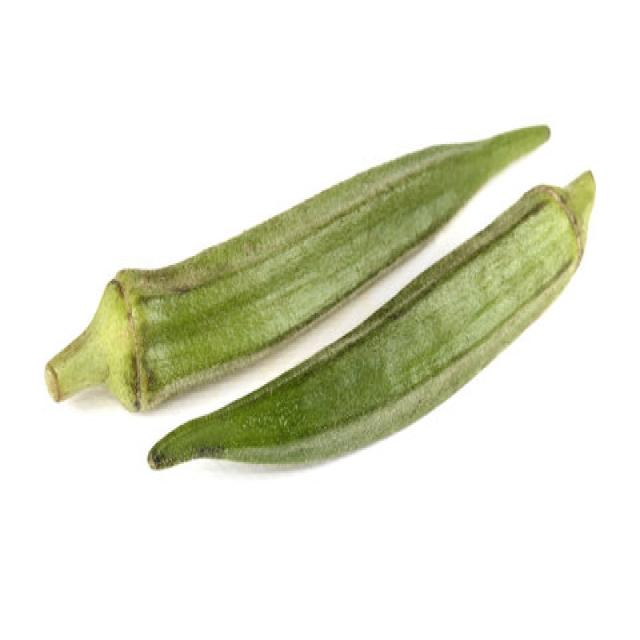Okra: (113, 113, 592, 468)
